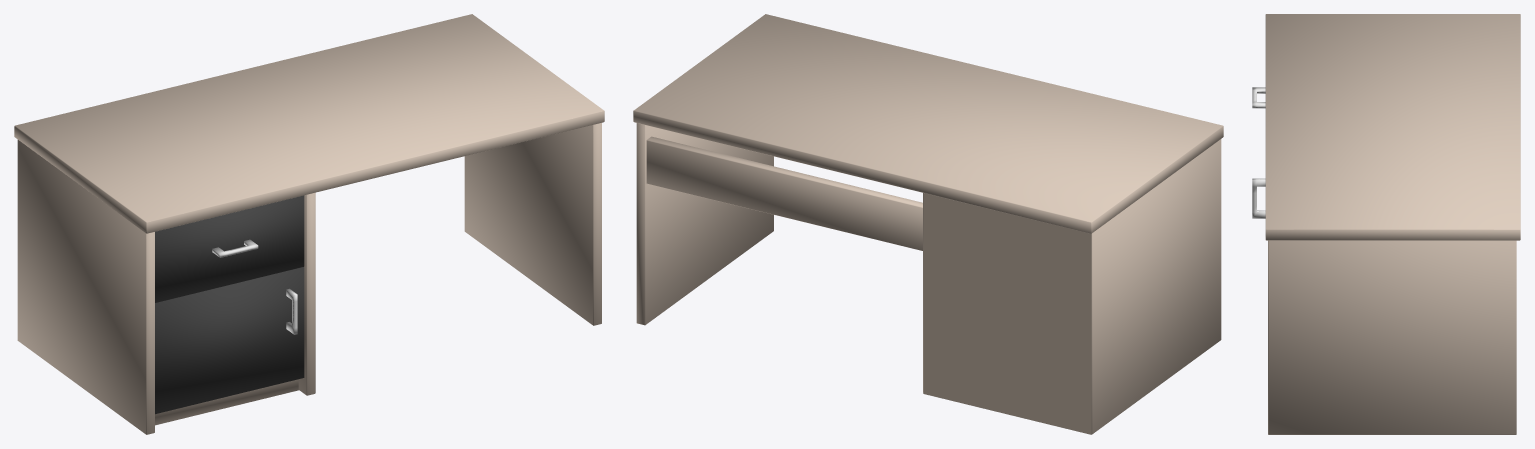
The model's file is desk (1).fbx.
3 views of the same model, side by side, from view 1: azimuth 30°, elevation 25°; view 2: azimuth 150°, elevation 25°; view 3: azimuth 270°, elevation 25° (orthographic). The views are drawn at different scales.
Visible parts, largest first — view 1: Desk, Door2, Door1; view 2: Desk; view 3: Desk, Handle2.
Boxes of the visible parts, x1,y1,x2,y2 form: Desk: [14, 14, 604, 434]; Door2: [155, 267, 304, 414]; Door1: [155, 195, 304, 302]; Desk: [633, 14, 1223, 434]; Desk: [1265, 14, 1520, 434]; Handle2: [1252, 178, 1265, 218].
Bounding box in the file's own units: 400 × 179 × 210.
